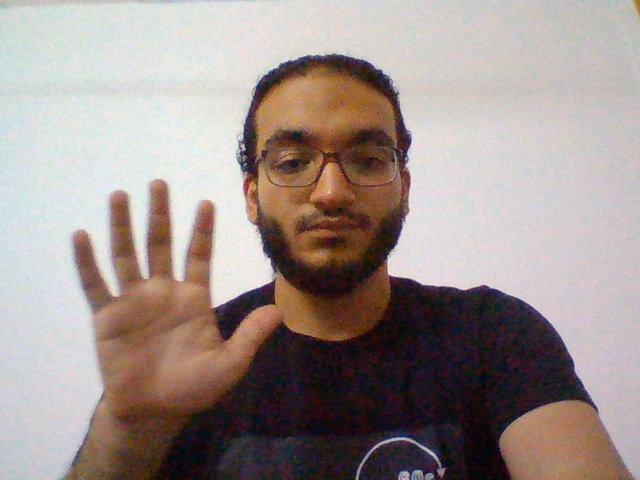Hello: (31, 164, 293, 441)
